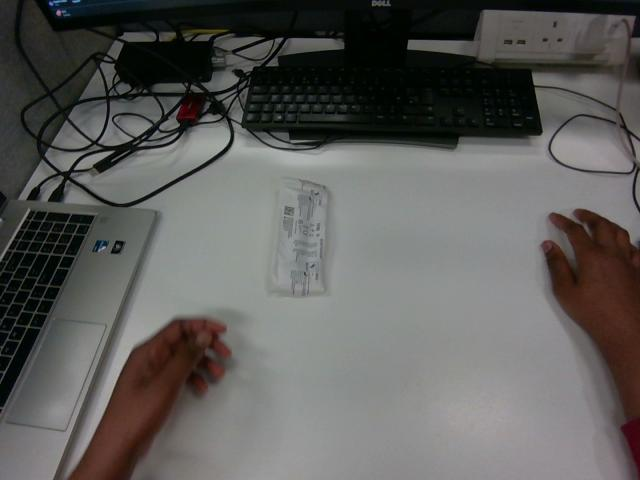syringe: (270, 178, 327, 296)
